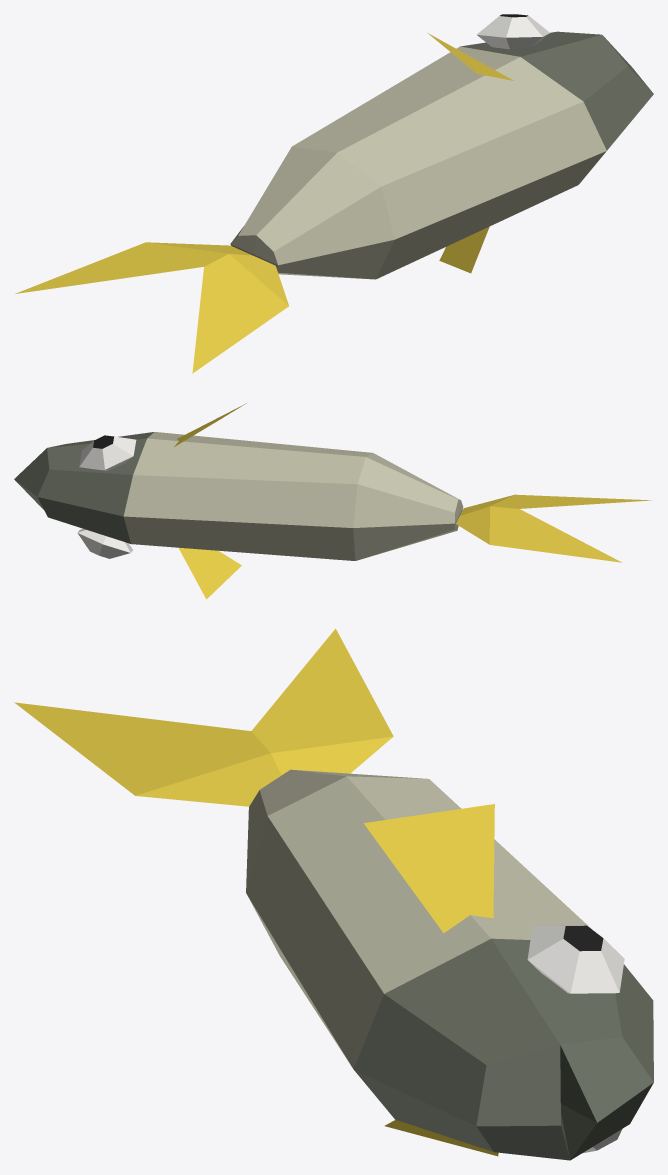
File: Fish_002.fbx
3 views of the same model, one above another, from view 1: azimuth 30°, elevation 25°; view 2: azimuth 150°, elevation 25°; view 3: azimuth 270°, elevation 25° (orthographic). The views are drawn at different scales.
Parts seen in each view (by area): view 1: Fish_1.002; view 2: Fish_1.002; view 3: Fish_1.002.
Boxes of the visible parts, bbox=[...] form: Fish_1.002: bbox=[15, 14, 653, 373]; Fish_1.002: bbox=[14, 403, 651, 599]; Fish_1.002: bbox=[14, 628, 653, 1160].
Bounding box in the file's own units: 12.12 × 3.88 × 6.57.
